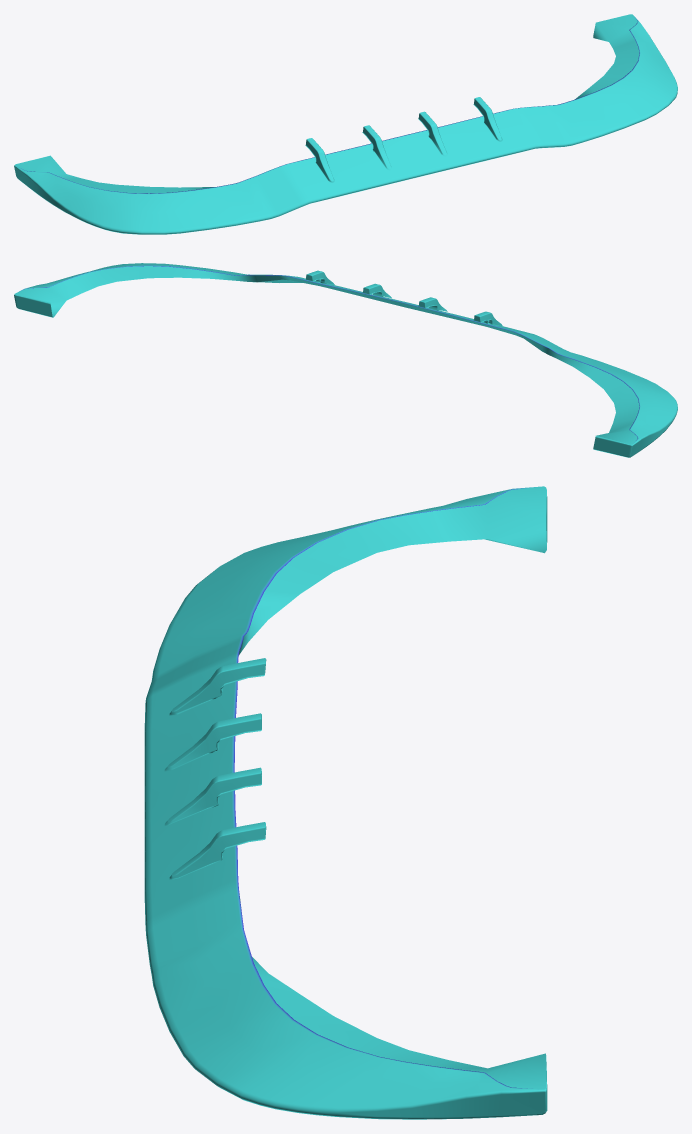
File: Car_Mini_CountrymanJCW_2017_Splitter_SetB_AltE.fbx
3 views of the same model, one above another, from view 1: azimuth 30°, elevation 25°; view 2: azimuth 150°, elevation 25°; view 3: azimuth 270°, elevation 25° (orthographic). The views are drawn at different scales.
Parts seen in each view (by area): view 1: Splitter 6; view 2: Splitter 6; view 3: Splitter 6.
Boxes of the visible parts, box(x1,y1,x2,y2) form: Splitter 6: box(14, 14, 677, 234); Splitter 6: box(14, 263, 677, 457); Splitter 6: box(144, 486, 547, 1119).
Bounding box in the file's own units: 1.73 × 0.1188 × 0.4874.
